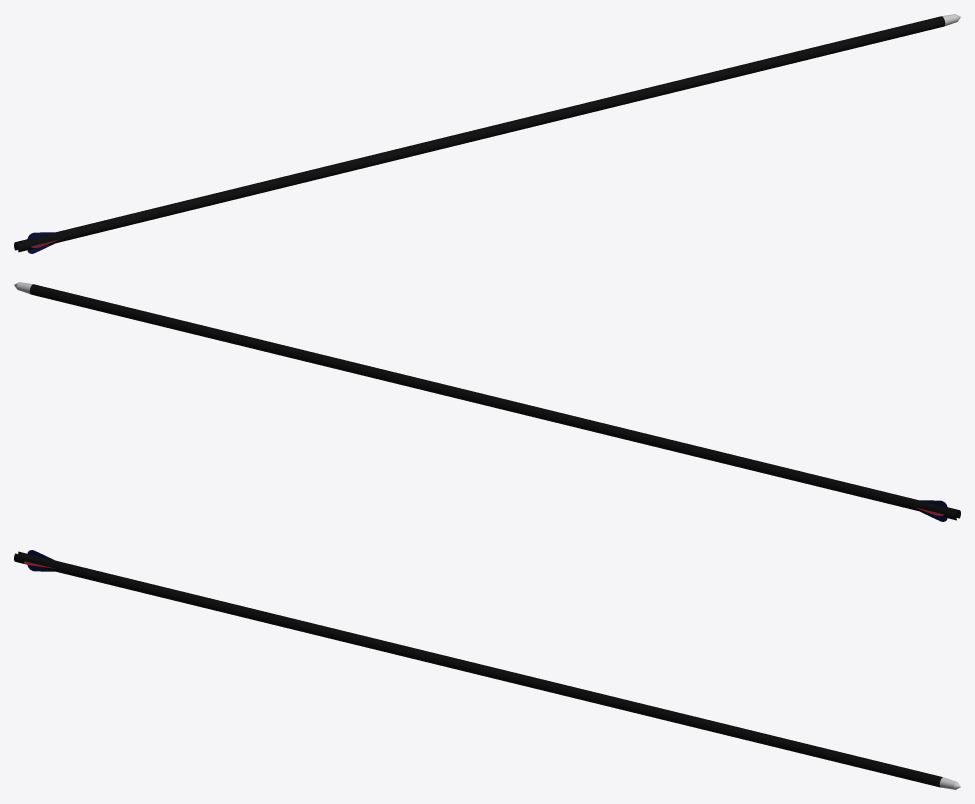
The model's file is arrow.glb.
The picture shows the model from 3 angles, top to bottom: view 1: azimuth 30°, elevation 25°; view 2: azimuth 150°, elevation 25°; view 3: azimuth 330°, elevation 25°; orthographic projection.
Parts seen in each view (by area): view 1: Arrow.001; view 2: Arrow.001; view 3: Arrow.001.
Boxes of the visible parts, x1,y1,x2,y2 form: Arrow.001: [14, 14, 960, 253]; Arrow.001: [14, 282, 960, 521]; Arrow.001: [14, 550, 960, 789].
Size of the model in its own units: 3.04 by 0.0645 by 0.0647.
